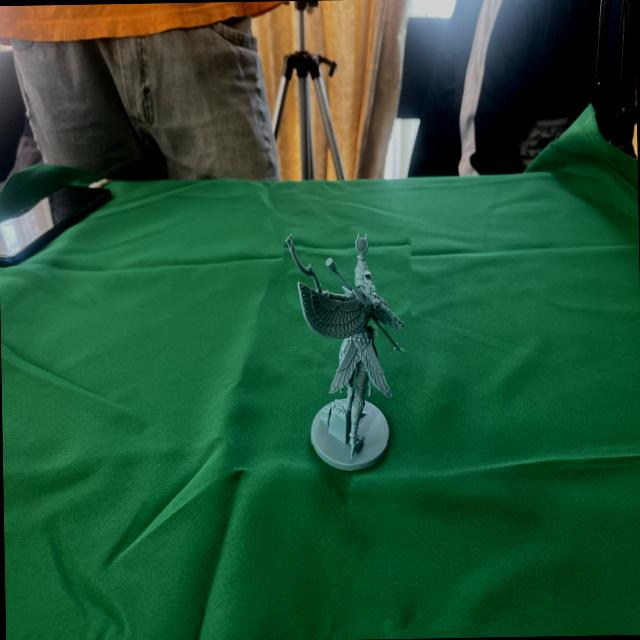isis: (284, 225, 416, 489)
